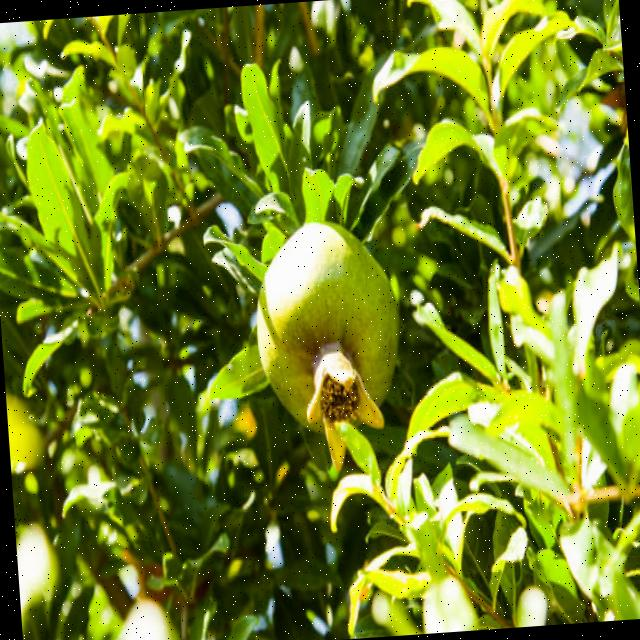Unripe: (247, 211, 408, 474)
